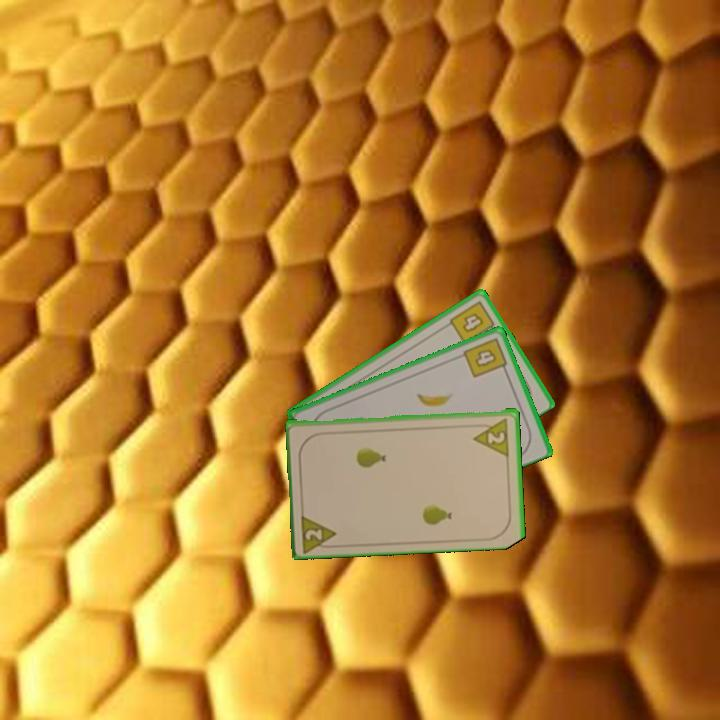2p: (298, 509, 341, 553), (470, 414, 512, 457)
4b: (446, 297, 499, 347), (460, 334, 510, 380)
